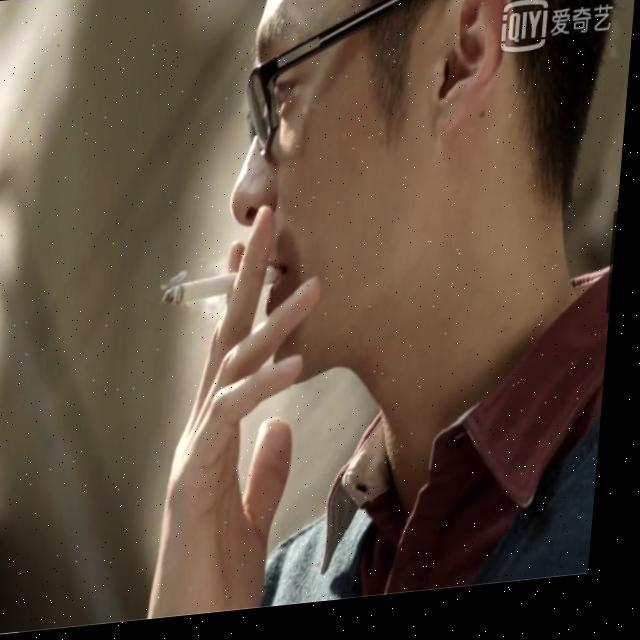cigarette: (168, 270, 287, 310)
